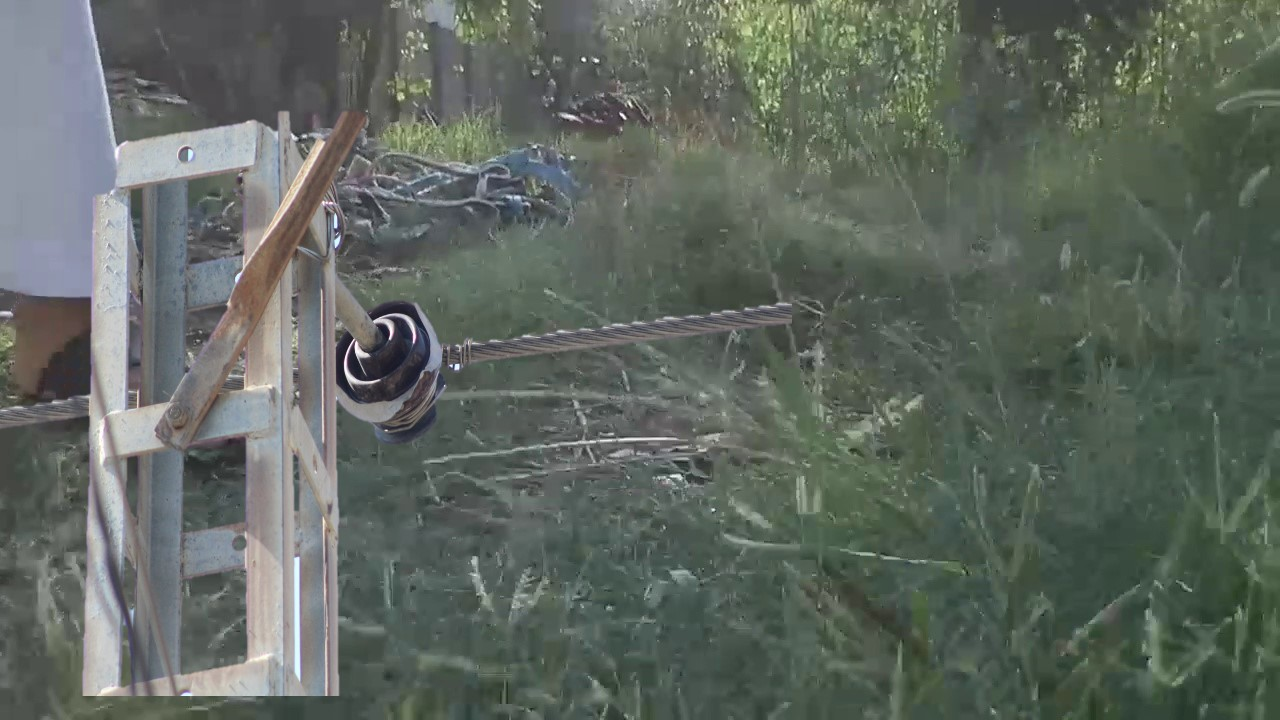defect_pin: (333, 300, 454, 442)
